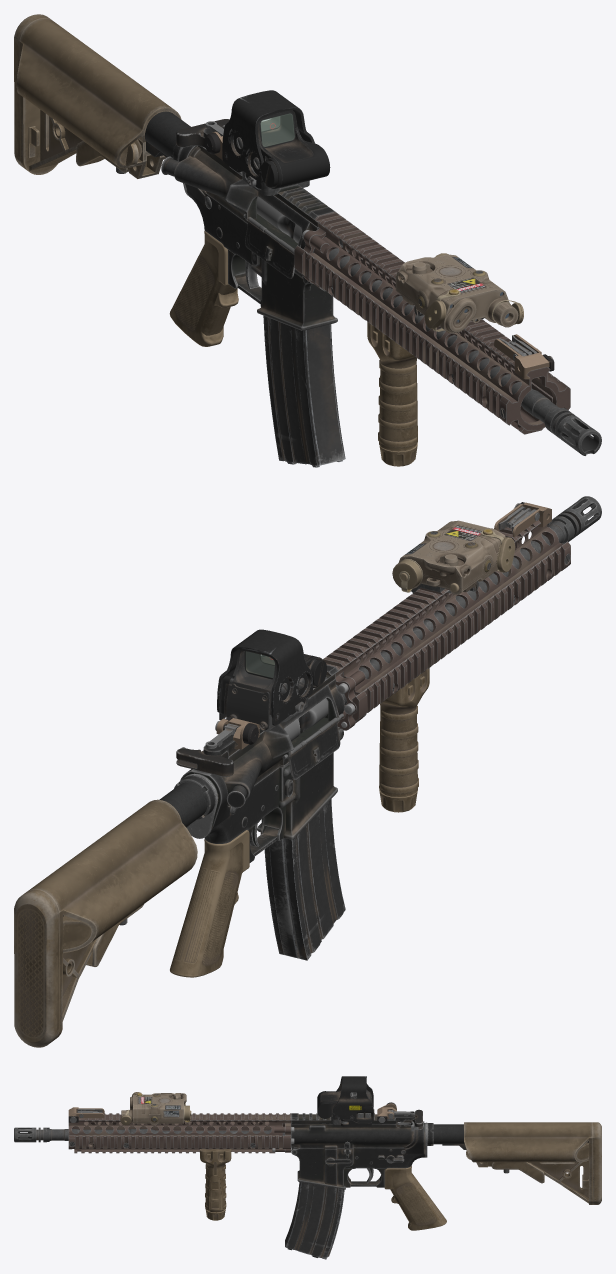
Rendered from soul_rifle.glb.
The picture shows the model from 3 angles, top to bottom: view 1: azimuth 30°, elevation 25°; view 2: azimuth 150°, elevation 25°; view 3: azimuth 270°, elevation 25°; orthographic projection. The views are drawn at different scales.
Parts seen in each view (by area): view 1: part_2_low, Fpart_1_low, Ppart_3_low, Tpart_4_low, Tpart_3_low, Spart_7_low, Tpart_5_low, part_8_low, Spart_2_low, Ppart_7_low, Fpart_4_low, Fpart_2_low (+10 smaller); view 2: part_2_low, Ppart_3_low, Fpart_1_low, Fpart_2_low, Tpart_4_low, Tpart_3_low, Spart_7_low, part_8_low, Tpart_5_low, Spart_5_low, Fpart_3_low, Tpart_2_low (+8 smaller); view 3: part_2_low, Ppart_3_low, Fpart_1_low, Tpart_4_low, Tpart_3_low, Spart_7_low, Fpart_2_low, Tpart_5_low, Ppart_2_low, Fpart_4_low, part_3_low, Ppart_7_low (+7 smaller).
Boxes of the visible parts, bbox=[...] form: part_2_low: bbox=[169, 131, 549, 467]; Fpart_1_low: bbox=[16, 18, 181, 178]; Ppart_3_low: bbox=[294, 212, 570, 430]; Tpart_4_low: bbox=[179, 145, 337, 330]; Tpart_3_low: bbox=[174, 146, 342, 289]; Spart_7_low: bbox=[222, 90, 314, 182]; Tpart_5_low: bbox=[161, 128, 335, 303]; part_8_low: bbox=[205, 121, 536, 447]; Spart_2_low: bbox=[258, 110, 322, 187]; Ppart_7_low: bbox=[302, 230, 601, 455]; Fpart_4_low: bbox=[28, 111, 190, 157]; Fpart_2_low: bbox=[14, 14, 128, 172]; part_2_low: bbox=[170, 502, 551, 977]; Ppart_3_low: bbox=[322, 520, 570, 721]; Fpart_1_low: bbox=[28, 799, 197, 1039]; Fpart_2_low: bbox=[14, 747, 185, 1047]; Tpart_4_low: bbox=[180, 717, 339, 862]; Tpart_3_low: bbox=[182, 678, 344, 846]; Spart_7_low: bbox=[217, 629, 312, 725]; part_8_low: bbox=[205, 506, 536, 793]; Tpart_5_low: bbox=[203, 665, 343, 855]; Spart_5_low: bbox=[219, 659, 326, 730]; Fpart_3_low: bbox=[63, 748, 233, 949]; Tpart_2_low: bbox=[174, 698, 328, 827]; part_2_low: bbox=[68, 1093, 446, 1259]; Ppart_3_low: bbox=[68, 1113, 291, 1149]; Fpart_1_low: bbox=[464, 1122, 592, 1204]; Tpart_4_low: bbox=[291, 1121, 425, 1189]; Tpart_3_low: bbox=[291, 1122, 427, 1183]; Spart_7_low: bbox=[332, 1076, 373, 1122]; Fpart_2_low: bbox=[397, 1121, 601, 1204]; Tpart_5_low: bbox=[291, 1113, 415, 1186]; Ppart_2_low: bbox=[74, 1130, 275, 1153]; Fpart_4_low: bbox=[431, 1124, 588, 1189]; part_3_low: bbox=[68, 1092, 395, 1212]; Ppart_7_low: bbox=[14, 1127, 294, 1151].
Bounding box in the file's own units: 8.85 × 34.49 × 104.
Materials: 5 (5 with a texture image).
